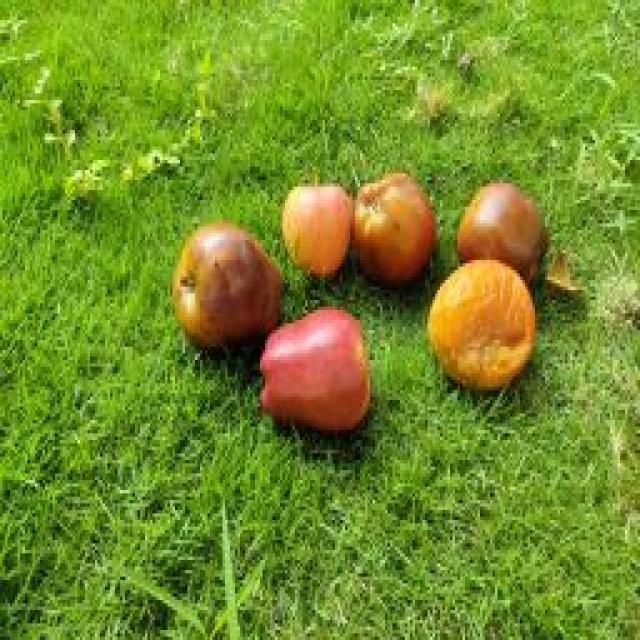Organik: (414, 243, 536, 406), (248, 298, 378, 432), (178, 204, 280, 354), (450, 150, 560, 286), (270, 148, 359, 287), (358, 159, 434, 301)
